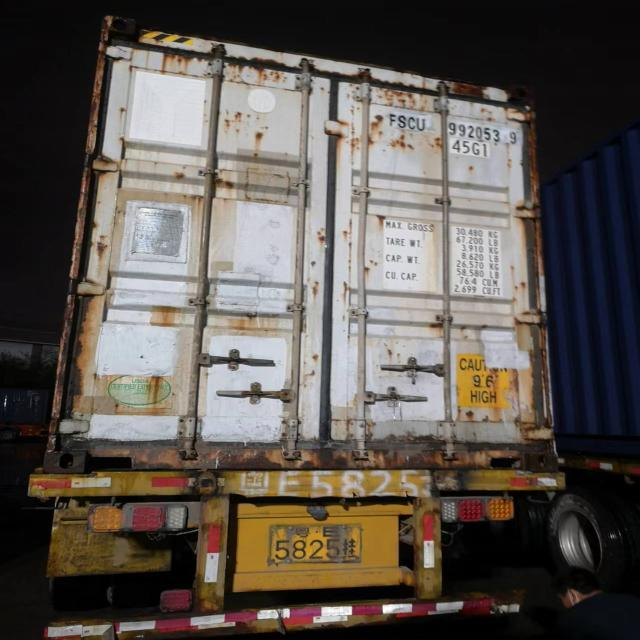ISO: (452, 140, 494, 158)
container_number: (387, 112, 522, 146)
